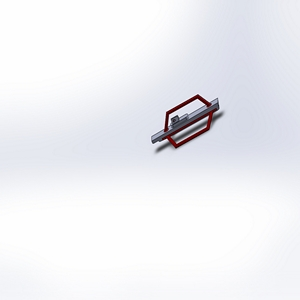submarine: (145, 84, 233, 167)
